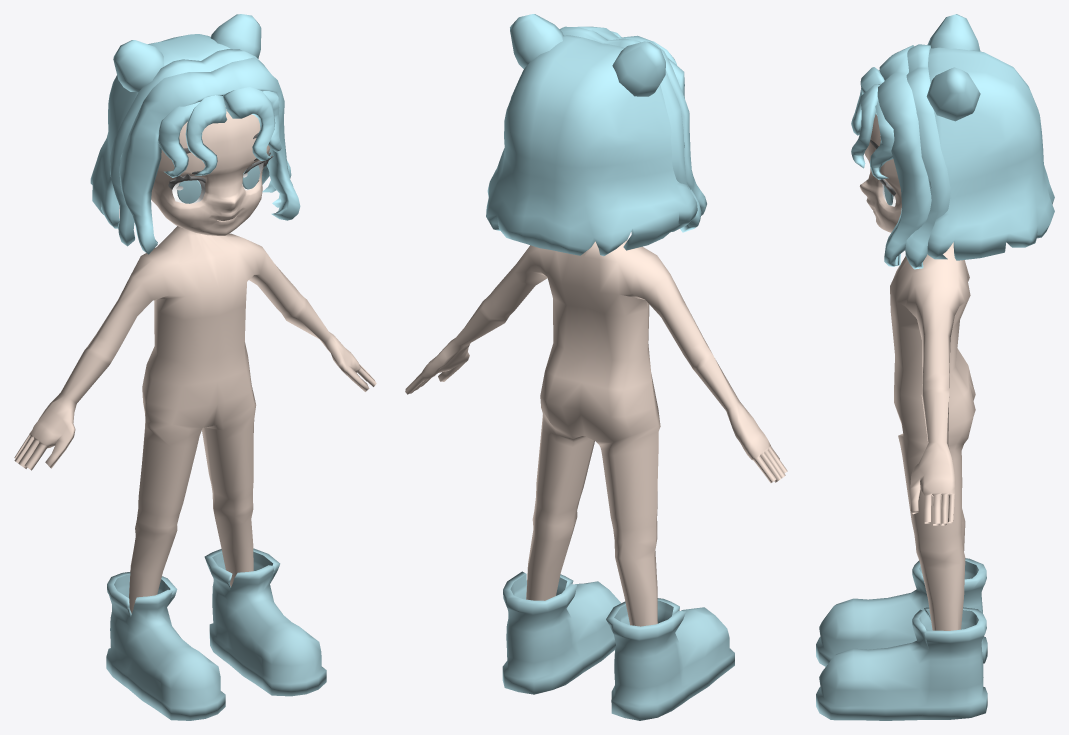
The model's file is Ch_sotai_FBX.fbx.
3 renders of one model, left to right at view 1: azimuth 30°, elevation 25°; view 2: azimuth 150°, elevation 25°; view 3: azimuth 270°, elevation 25°, orthographic. The views are drawn at different scales.
Visible parts, largest first — view 1: polySurface55, hair_polySurface56_polySurface56_polySurface56, polySurface38; view 2: polySurface55, hair_polySurface56_polySurface56_polySurface56; view 3: polySurface55, hair_polySurface56_polySurface56_polySurface56.
Boxes of the visible parts, <box> form: polySurface55: <box>14,106,376,720</box>; hair_polySurface56_polySurface56_polySurface56: <box>90,14,300,254</box>; polySurface38: <box>172,162,263,203</box>; polySurface55: <box>405,240,787,720</box>; hair_polySurface56_polySurface56_polySurface56: <box>486,14,706,256</box>; polySurface55: <box>816,114,987,720</box>; hair_polySurface56_polySurface56_polySurface56: <box>851,14,1054,269</box>.
Bounding box in the file's own units: 2.93 × 4.97 × 1.68.
